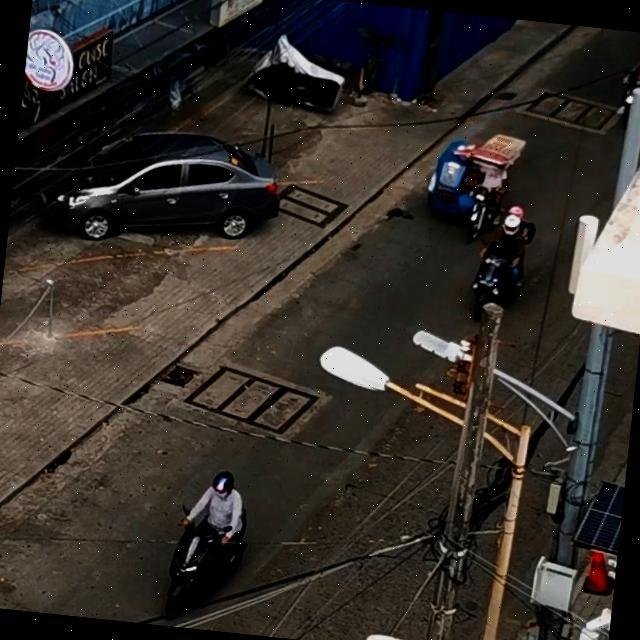Tricycle: (404, 119, 542, 254)
